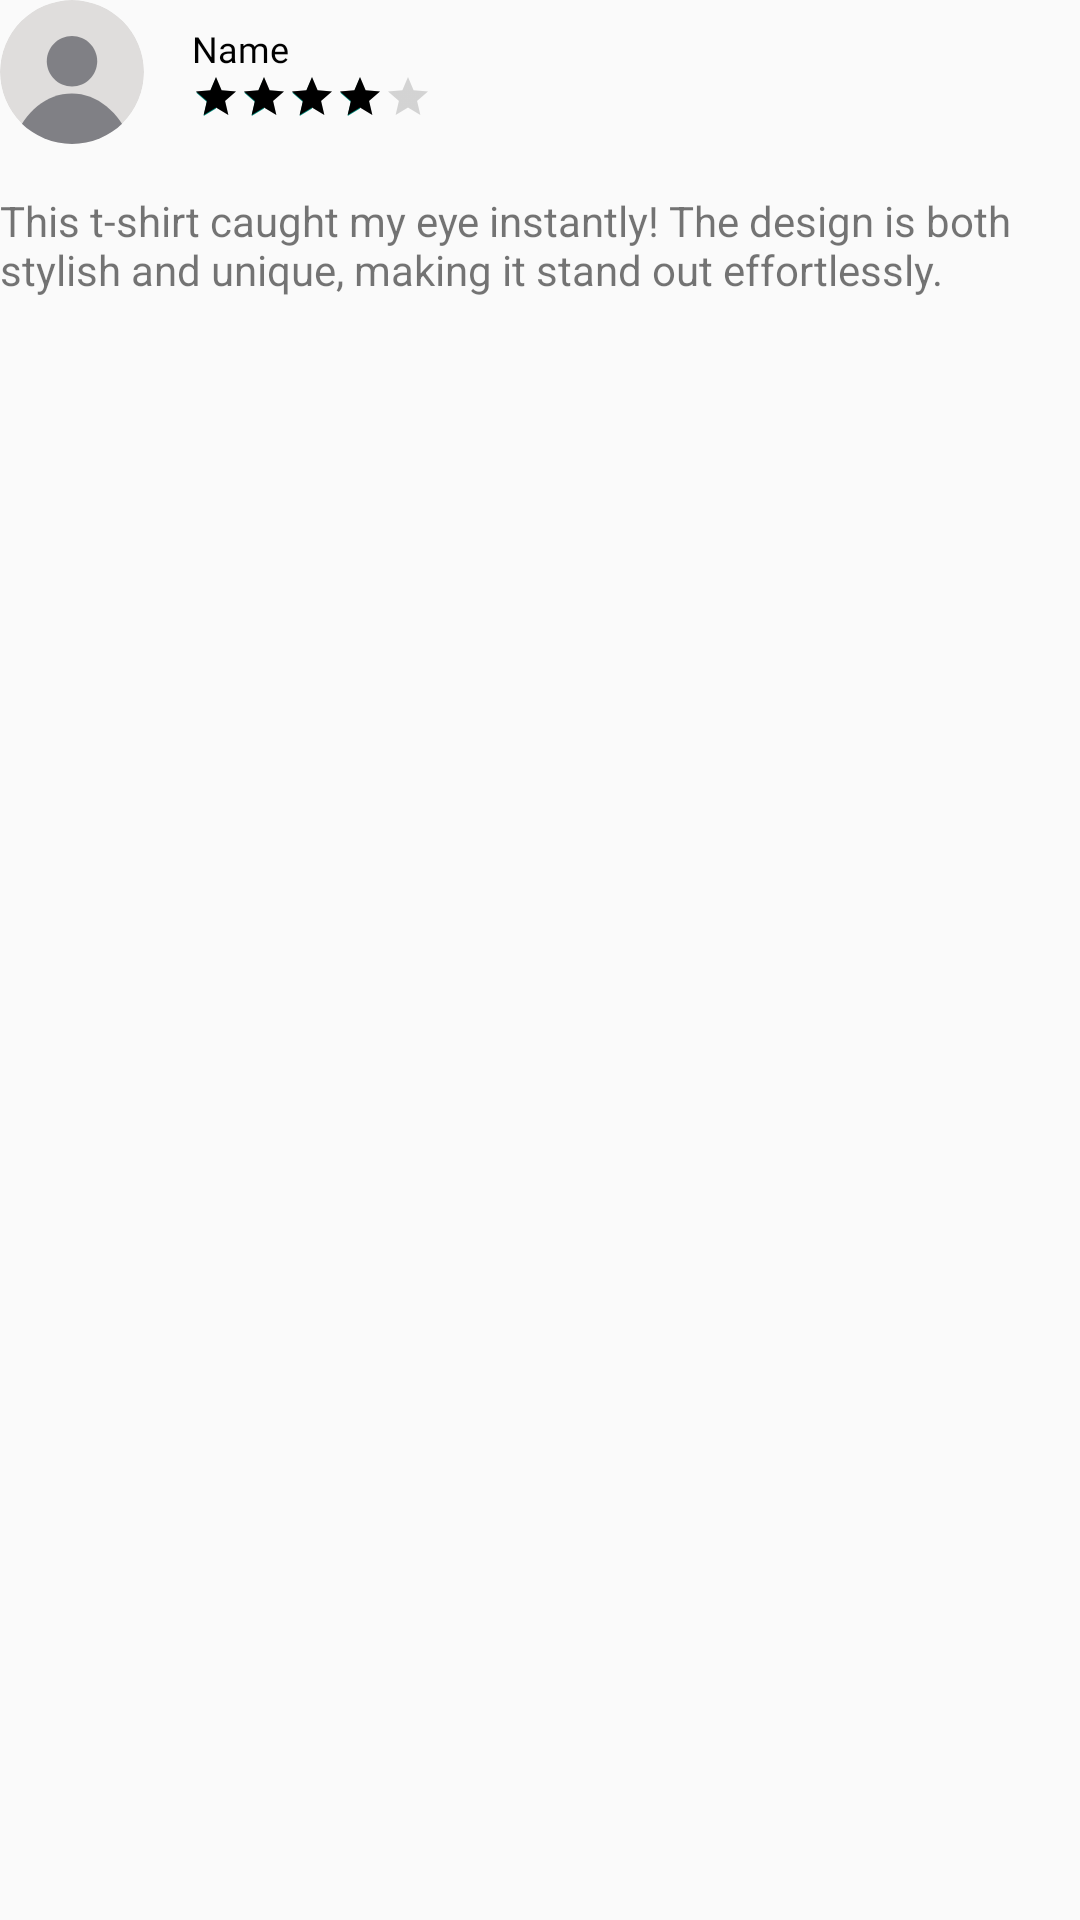

Point at icon controls on the screen. Image size 1080×1920, points as (x=x, y=y).
profile: (x=72, y=72)
